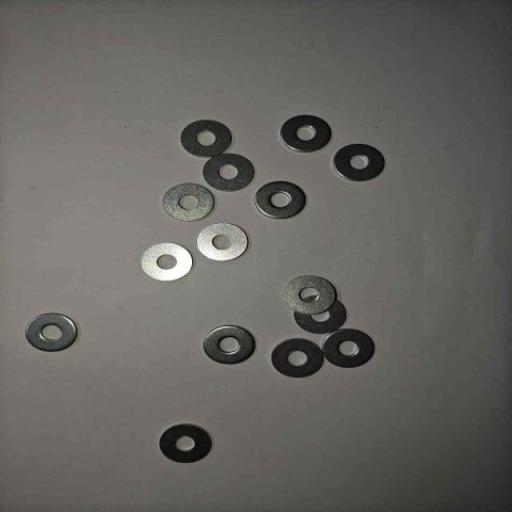washer: (158, 422, 213, 464), (202, 323, 256, 365), (282, 274, 336, 315), (24, 311, 78, 352), (322, 328, 374, 369), (271, 338, 323, 378), (162, 182, 214, 222), (254, 180, 306, 220), (279, 114, 331, 154), (332, 142, 385, 181), (202, 153, 254, 192), (142, 242, 192, 282), (197, 222, 248, 261), (180, 118, 231, 157), (294, 299, 347, 334)
